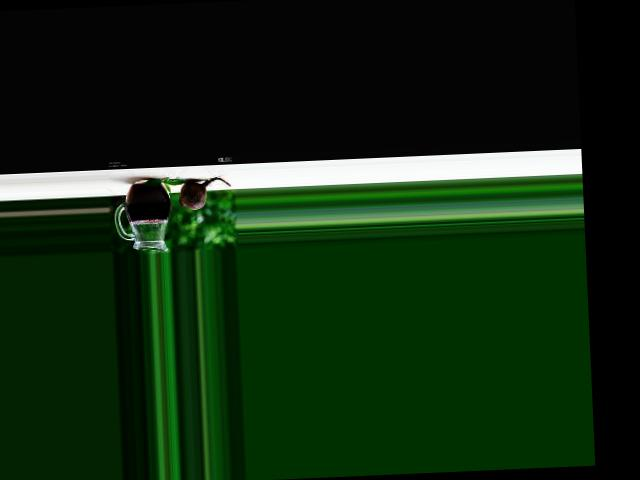beet: (177, 176, 230, 209)
